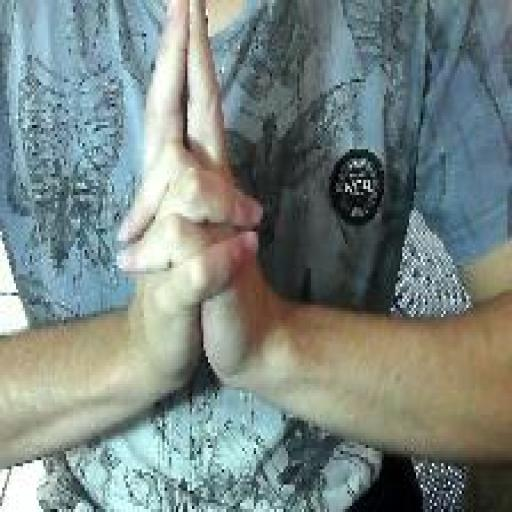Tora -tiger-: (111, 0, 266, 396)
